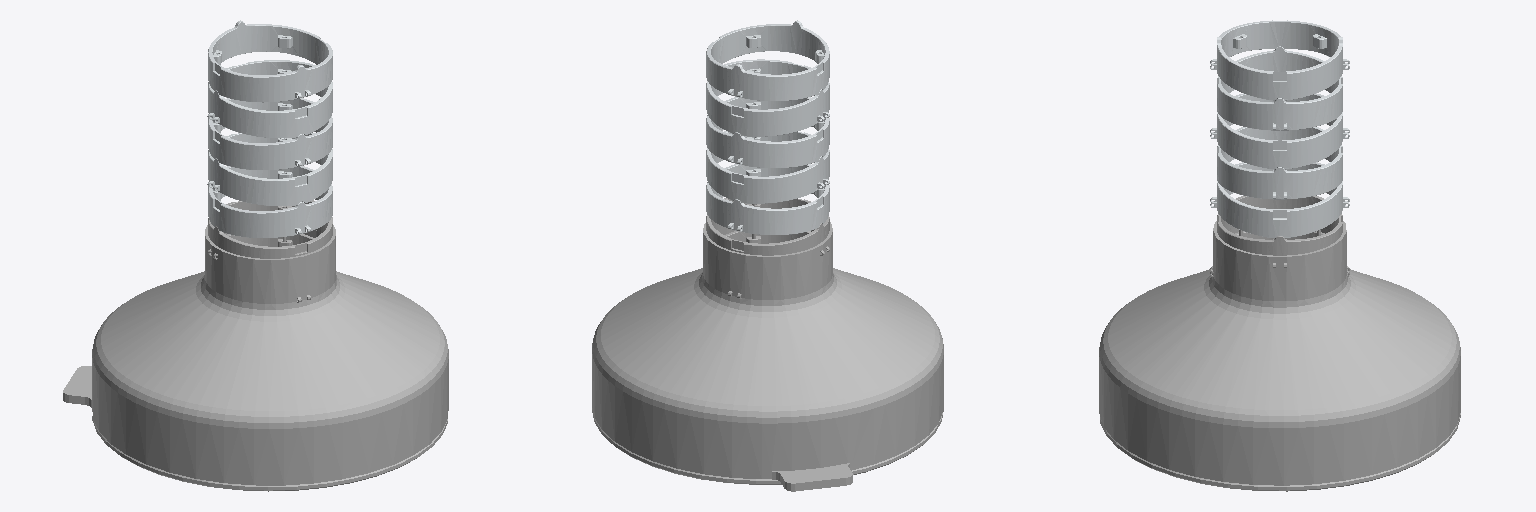
URDF robot description (snake_robot1):
<?xml version="1.0" encoding="utf-8"?>
<!-- This URDF was automatically created by SolidWorks to URDF Exporter! Originally created by [author] ([email redacted]) 
     Commit Version: 1.6.0-1-g15f4949  Build Version: 1.6.7594.29634
     For more information, please see http://wiki.ros.org/sw_urdf_exporter -->
<robot
  name="snake_robot1">
  <link
    name="base_link">
    <visual>
      <origin
        xyz="0 0 0"
        rpy="0 0 0" />
      <geometry>
        <mesh
          filename="package://snake_robot1/meshes/base_link.STL" />
      </geometry>
      <material
        name="">
        <color
          rgba="0.75294 0.75294 0.75294 1" />
      </material>
    </visual>
    <collision>
      <origin
        xyz="0 0 0"
        rpy="0 0 0" />
      <geometry>
        <mesh
          filename="package://snake_robot1/meshes/base_link.STL" />
      </geometry>
    </collision>
  </link>
  <link
    name="link1">
    <inertial>
      <origin
        xyz="7.2882E-09 3.4329E-09 0.010539"
        rpy="0 0 0" />
      <mass
        value="0.024744" />
      <inertia
        ixx="1.4926E-05"
        ixy="-1.6133E-09"
        ixz="2.3902E-13"
        iyy="1.4062E-05"
        iyz="-9.0592E-13"
        izz="2.7906E-05" />
    </inertial>
    <visual>
      <origin
        xyz="0 0 0"
        rpy="0 0 0" />
      <geometry>
        <mesh
          filename="package://snake_robot1/meshes/link1.STL" />
      </geometry>
      <material
        name="">
        <color
          rgba="0.89804 0.91765 0.92941 1" />
      </material>
    </visual>
    <collision>
      <origin
        xyz="0 0 0"
        rpy="0 0 0" />
      <geometry>
        <mesh
          filename="package://snake_robot1/meshes/link1.STL" />
      </geometry>
    </collision>
  </link>
  <joint
    name="joint1"
    type="revolute">
    <origin
      xyz="0 0 0.1235"
      rpy="0 0 0" />
    <parent
      link="base_link" />
    <child
      link="link1" />
    <axis
      xyz="-1 0 0" />
    <limit
      lower="-0.17"
      upper="0.17"
      effort="0"
      velocity="0" />
  </joint>
  <link
    name="link2">
    <inertial>
      <origin
        xyz="-3.433E-09 7.2882E-09 0.010539"
        rpy="0 0 0" />
      <mass
        value="0.024744" />
      <inertia
        ixx="1.4062E-05"
        ixy="1.6133E-09"
        ixz="9.0592E-13"
        iyy="1.4926E-05"
        iyz="2.3902E-13"
        izz="2.7906E-05" />
    </inertial>
    <visual>
      <origin
        xyz="0 0 0"
        rpy="0 0 0" />
      <geometry>
        <mesh
          filename="package://snake_robot1/meshes/link2.STL" />
      </geometry>
      <material
        name="">
        <color
          rgba="0.89804 0.91765 0.92941 1" />
      </material>
    </visual>
    <collision>
      <origin
        xyz="0 0 0"
        rpy="0 0 0" />
      <geometry>
        <mesh
          filename="package://snake_robot1/meshes/link2.STL" />
      </geometry>
    </collision>
  </link>
  <joint
    name="joint2"
    type="revolute">
    <origin
      xyz="0 0 0.021"
      rpy="0 0 0" />
    <parent
      link="link1" />
    <child
      link="link2" />
    <axis
      xyz="0 -1 0" />
    <limit
      lower="-0.17"
      upper="0.17"
      effort="0"
      velocity="0" />
  </joint>
  <link
    name="link3">
    <inertial>
      <origin
        xyz="7.2882E-09 3.4329E-09 0.010539"
        rpy="0 0 0" />
      <mass
        value="0.024744" />
      <inertia
        ixx="1.4926E-05"
        ixy="-1.6133E-09"
        ixz="2.3902E-13"
        iyy="1.4062E-05"
        iyz="-9.0592E-13"
        izz="2.7906E-05" />
    </inertial>
    <visual>
      <origin
        xyz="0 0 0"
        rpy="0 0 0" />
      <geometry>
        <mesh
          filename="package://snake_robot1/meshes/link3.STL" />
      </geometry>
      <material
        name="">
        <color
          rgba="0.89804 0.91765 0.92941 1" />
      </material>
    </visual>
    <collision>
      <origin
        xyz="0 0 0"
        rpy="0 0 0" />
      <geometry>
        <mesh
          filename="package://snake_robot1/meshes/link3.STL" />
      </geometry>
    </collision>
  </link>
  <joint
    name="joint3"
    type="revolute">
    <origin
      xyz="0 0 0.021"
      rpy="0 0 0" />
    <parent
      link="link2" />
    <child
      link="link3" />
    <axis
      xyz="1 0 0" />
    <limit
      lower="-0.17"
      upper="0.17"
      effort="0"
      velocity="0" />
  </joint>
  <link
    name="link4">
    <inertial>
      <origin
        xyz="-3.433E-09 7.2882E-09 0.010539"
        rpy="0 0 0" />
      <mass
        value="0.024744" />
      <inertia
        ixx="1.4062E-05"
        ixy="1.6133E-09"
        ixz="9.0592E-13"
        iyy="1.4926E-05"
        iyz="2.3902E-13"
        izz="2.7906E-05" />
    </inertial>
    <visual>
      <origin
        xyz="0 0 0"
        rpy="0 0 0" />
      <geometry>
        <mesh
          filename="package://snake_robot1/meshes/link4.STL" />
      </geometry>
      <material
        name="">
        <color
          rgba="0.89804 0.91765 0.92941 1" />
      </material>
    </visual>
    <collision>
      <origin
        xyz="0 0 0"
        rpy="0 0 0" />
      <geometry>
        <mesh
          filename="package://snake_robot1/meshes/link4.STL" />
      </geometry>
    </collision>
  </link>
  <joint
    name="joint4"
    type="revolute">
    <origin
      xyz="0 0 0.021"
      rpy="0 0 0" />
    <parent
      link="link3" />
    <child
      link="link4" />
    <axis
      xyz="0 -1 0" />
    <limit
      lower="-0.17"
      upper="0.17"
      effort="0"
      velocity="0" />
  </joint>
  <link
    name="link5">
    <inertial>
      <origin
        xyz="7.2882E-09 3.4329E-09 0.010539"
        rpy="0 0 0" />
      <mass
        value="0.024744" />
      <inertia
        ixx="1.4926E-05"
        ixy="-1.6133E-09"
        ixz="2.3902E-13"
        iyy="1.4062E-05"
        iyz="-9.0592E-13"
        izz="2.7906E-05" />
    </inertial>
    <visual>
      <origin
        xyz="0 0 0"
        rpy="0 0 0" />
      <geometry>
        <mesh
          filename="package://snake_robot1/meshes/link5.STL" />
      </geometry>
      <material
        name="">
        <color
          rgba="0.89804 0.91765 0.92941 1" />
      </material>
    </visual>
    <collision>
      <origin
        xyz="0 0 0"
        rpy="0 0 0" />
      <geometry>
        <mesh
          filename="package://snake_robot1/meshes/link5.STL" />
      </geometry>
    </collision>
  </link>
  <joint
    name="joint5"
    type="revolute">
    <origin
      xyz="0 0 0.021"
      rpy="0 0 0" />
    <parent
      link="link4" />
    <child
      link="link5" />
    <axis
      xyz="1 0 0" />
    <limit
      lower="-0.17"
      upper="0.17"
      effort="0"
      velocity="0" />
  </joint>
</robot>

--- Facts derived from the render (not from the file) ---
Views: 3 orthographic renders of the robot side by side, from view 1: azimuth 30°, elevation 25°; view 2: azimuth 150°, elevation 25°; view 3: azimuth 270°, elevation 25°.
Robot: snake_robot1 — 6 links, 5 joints (5 revolute); root link base_link; default pose: every joint at zero.
Links seen in each view (by area): view 1: base_link, link5, link4, link1, link3, link2; view 2: base_link, link5, link4, link1, link3, link2; view 3: base_link, link5, link4, link2, link1, link3.
Boxes of the visible links, box(x1,y1,x2,y2) form: base_link: box(63, 200, 448, 491); link5: box(208, 20, 332, 102); link4: box(207, 60, 332, 138); link1: box(208, 166, 332, 237); link3: box(208, 98, 332, 169); link2: box(207, 133, 332, 205); base_link: box(592, 198, 943, 491); link5: box(706, 20, 829, 100); link4: box(706, 59, 829, 136); link1: box(706, 164, 829, 234); link3: box(706, 97, 829, 167); link2: box(706, 131, 829, 203); base_link: box(1099, 196, 1460, 491); link5: box(1210, 20, 1349, 100); link4: box(1217, 46, 1342, 130); link2: box(1217, 127, 1342, 199); link1: box(1210, 162, 1349, 237); link3: box(1210, 93, 1349, 169).
Size in the robot's own frame: 0.2 by 0.2 by 0.231 metres.
6 mesh visuals loaded from 6 distinct referenced files (6 binary STL).
